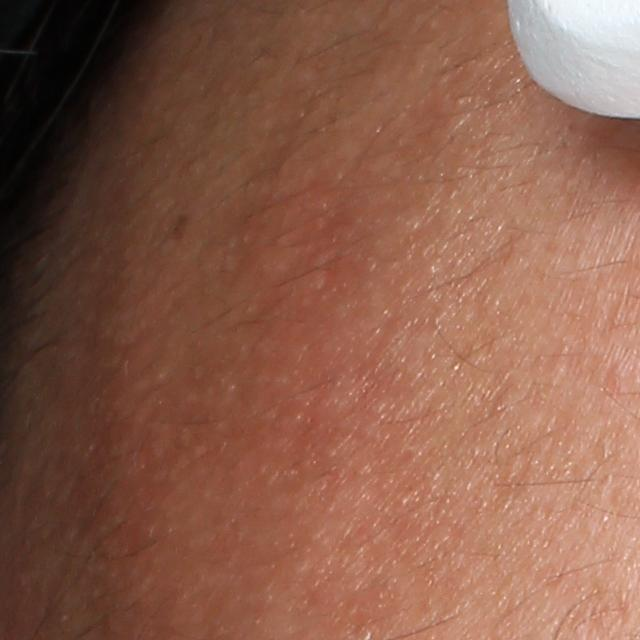nevus: (163, 211, 193, 241)
